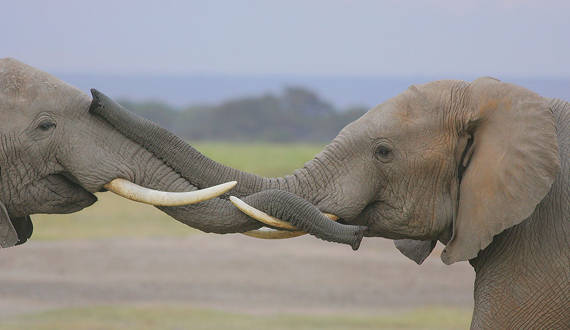elephant: (229, 72, 570, 325), (1, 54, 270, 271)
